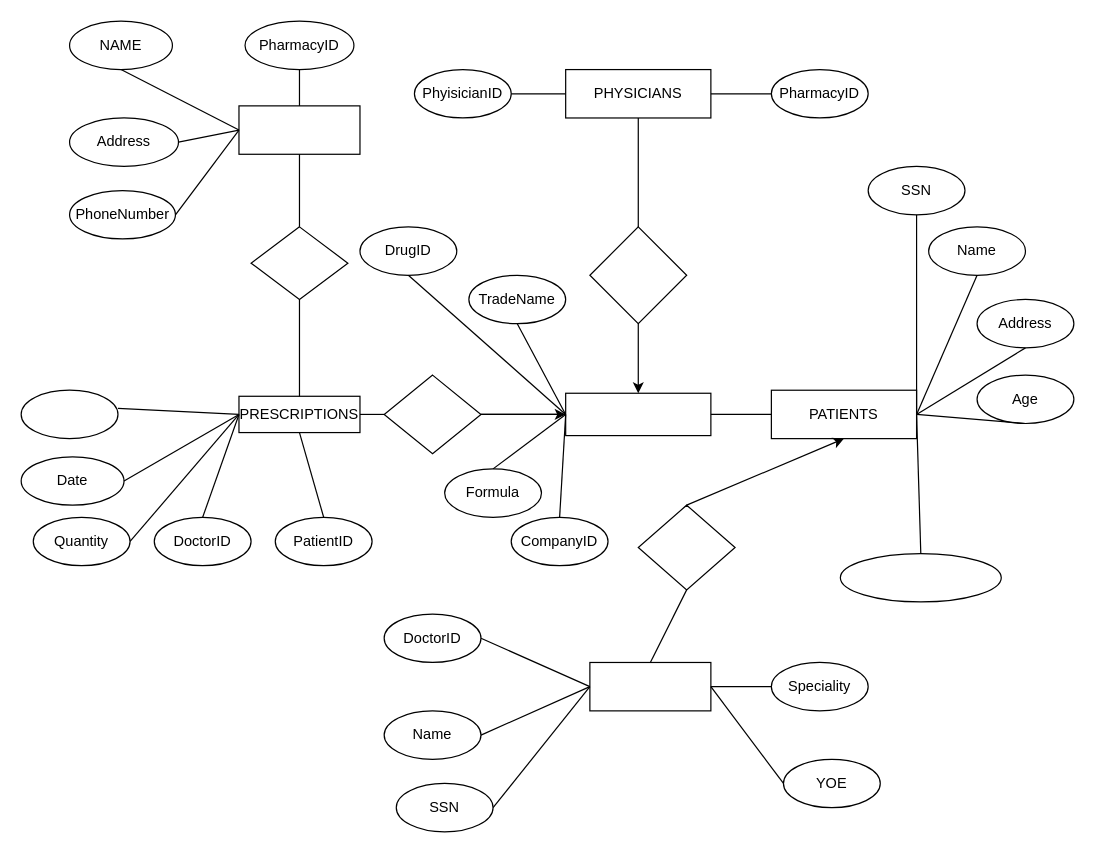
This 1095x853 diagram has some shape labels left out. The shapes that lost their labels are listed below. From the top down, each one's box as (x1, y1, x2, y2) in pixels, then its label:
(238, 105, 360, 154): PHARMACIES
(250, 226, 348, 299): HAS
(589, 226, 687, 324): Produces
(20, 389, 118, 439): PrescriptionID
(383, 374, 481, 454): SELLS
(564, 392, 711, 436): DRUGS
(637, 504, 735, 590): Prescribes
(839, 552, 1001, 602): Primary PhysicianID
(589, 661, 711, 711): DOCTOR
